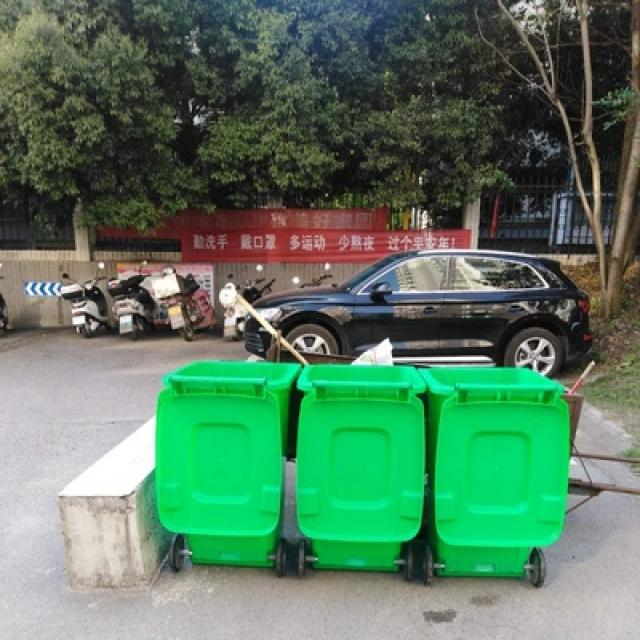ash bin: (416, 363, 570, 591), (157, 355, 296, 576), (291, 360, 429, 580)
car: (238, 244, 590, 373)
motorbike: (211, 264, 275, 340), (154, 262, 216, 340), (101, 258, 155, 338), (56, 257, 109, 337)
